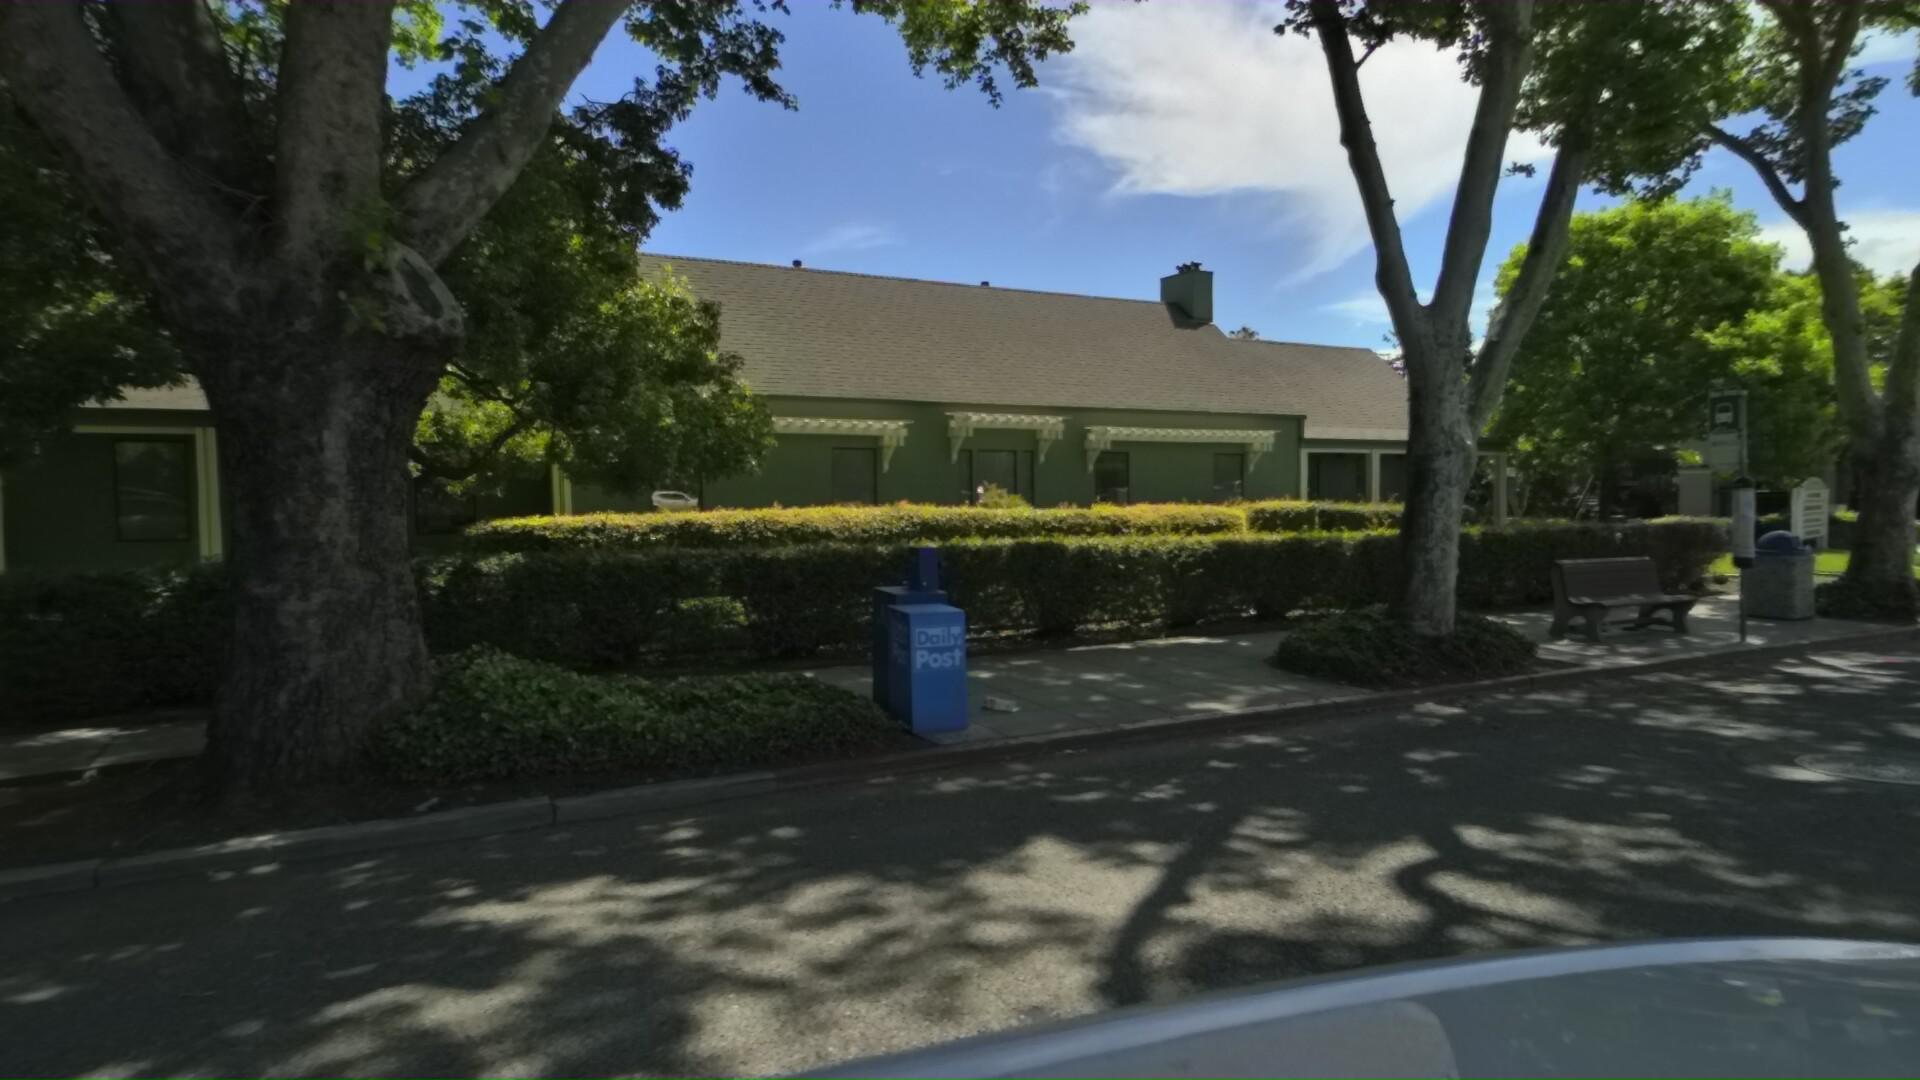car: (1572, 495, 1633, 522), (1602, 488, 1659, 517)
